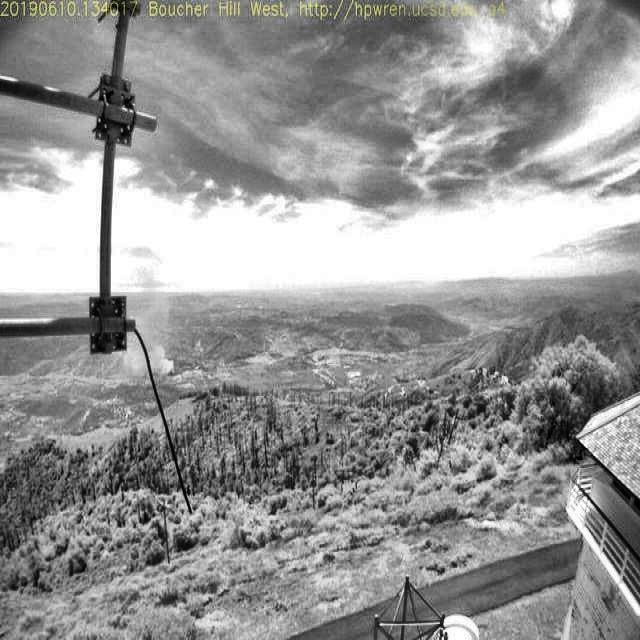smoke: (119, 255, 177, 380)
